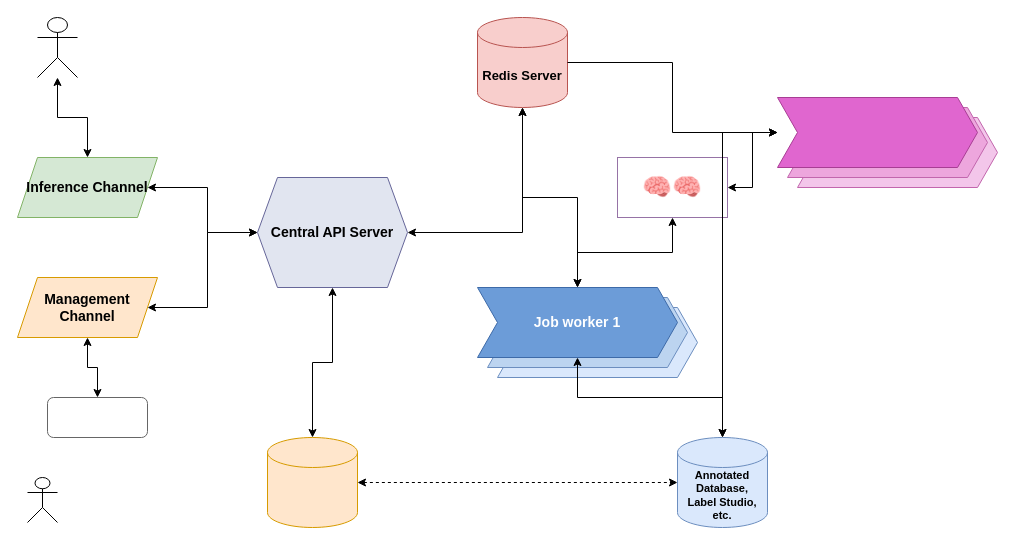
Some shapes in this 1015 by 545 pixel diagram are drawn without their labels. The shapes that lost their labels are listed below. From the top down, each one's centre as x and y in pixels, then its label:
point (57, 47): End user
point (877, 132): Training worker 1
point (97, 417): Admin
point (312, 482): PostgreSQL
